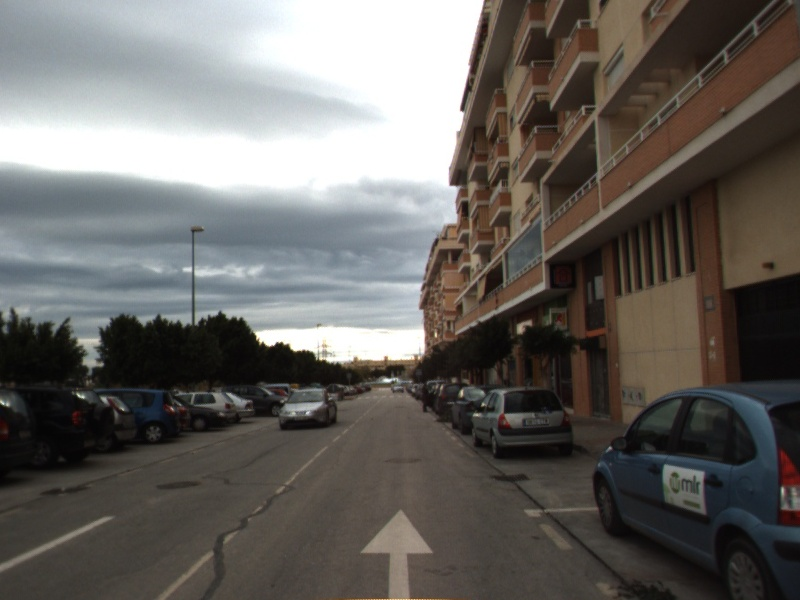STRAIGHT: (358, 507, 436, 600)
